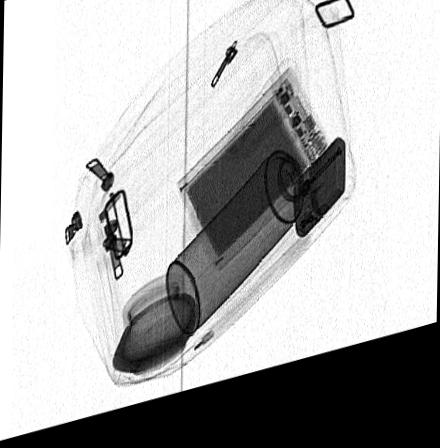Lighter: (292, 153, 346, 254)
Powerbank: (166, 132, 333, 346), (175, 83, 331, 284)
